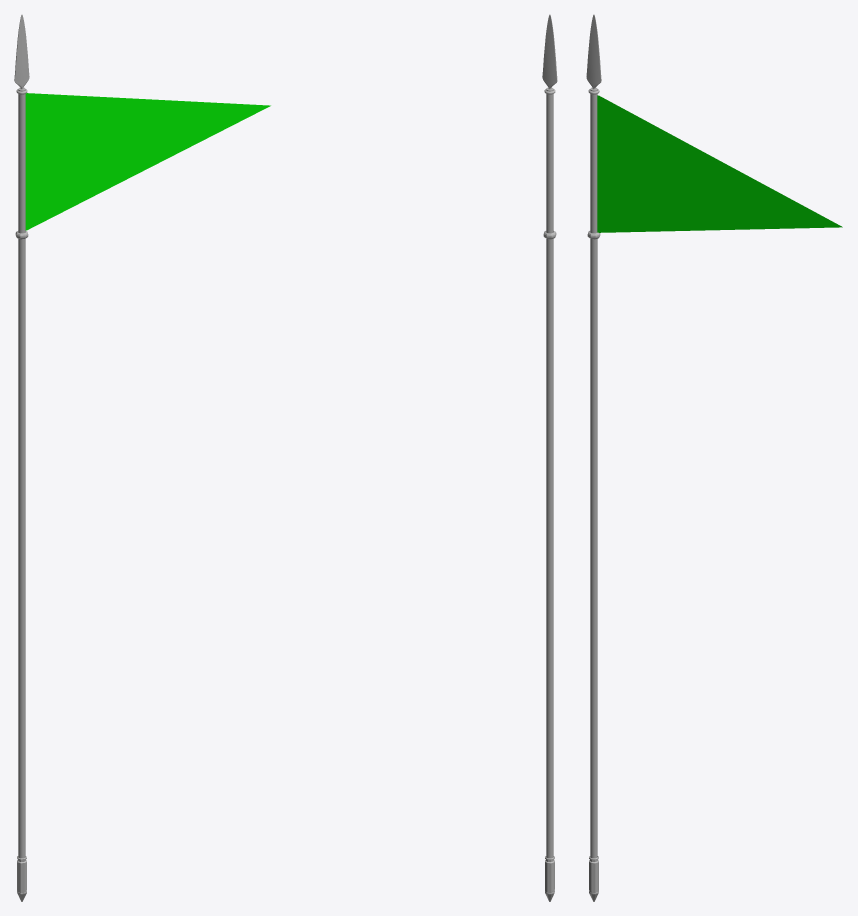
The model's file is Bayroq.glb.
3 views of the same model, side by side, from view 1: azimuth 30°, elevation 25°; view 2: azimuth 150°, elevation 25°; view 3: azimuth 330°, elevation 25° (orthographic).
Parts seen in each view (by area): view 1: LATTA, TAYOQ; view 2: TAYOQ; view 3: LATTA, TAYOQ.
Part boxes in pixels (x1,y1,x2,y2): LATTA: [25, 93, 270, 230]; TAYOQ: [14, 14, 29, 901]; TAYOQ: [542, 14, 557, 901]; LATTA: [597, 95, 842, 232]; TAYOQ: [586, 14, 601, 901].
Size of the model in its own units: 0.0896 by 0.2957 by 0.00402.
